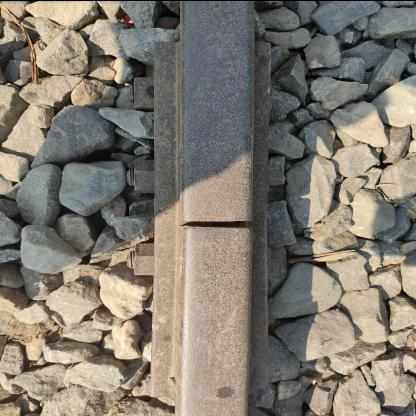Non Defective 2: (149, 159, 267, 241)
